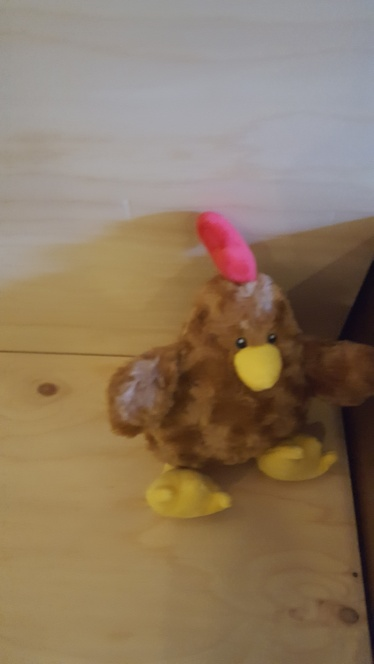chicken_front: (104, 208, 374, 521)
